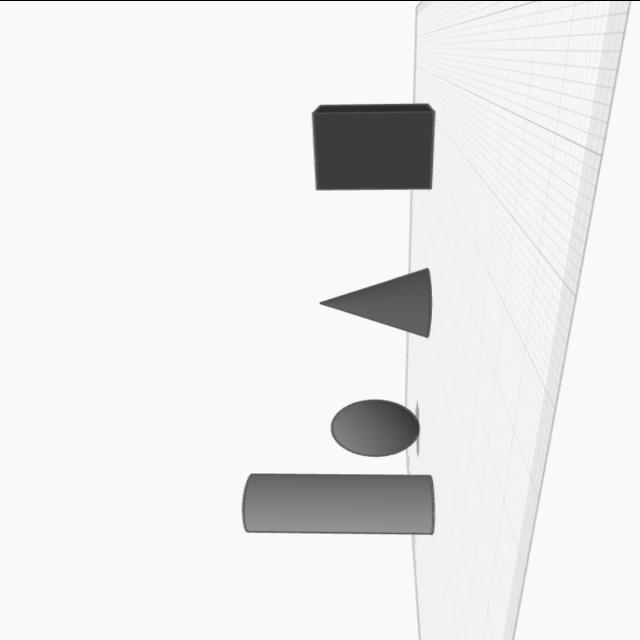cone: (310, 265, 440, 340)
cube: (309, 100, 436, 193)
sphere: (328, 397, 422, 457)
